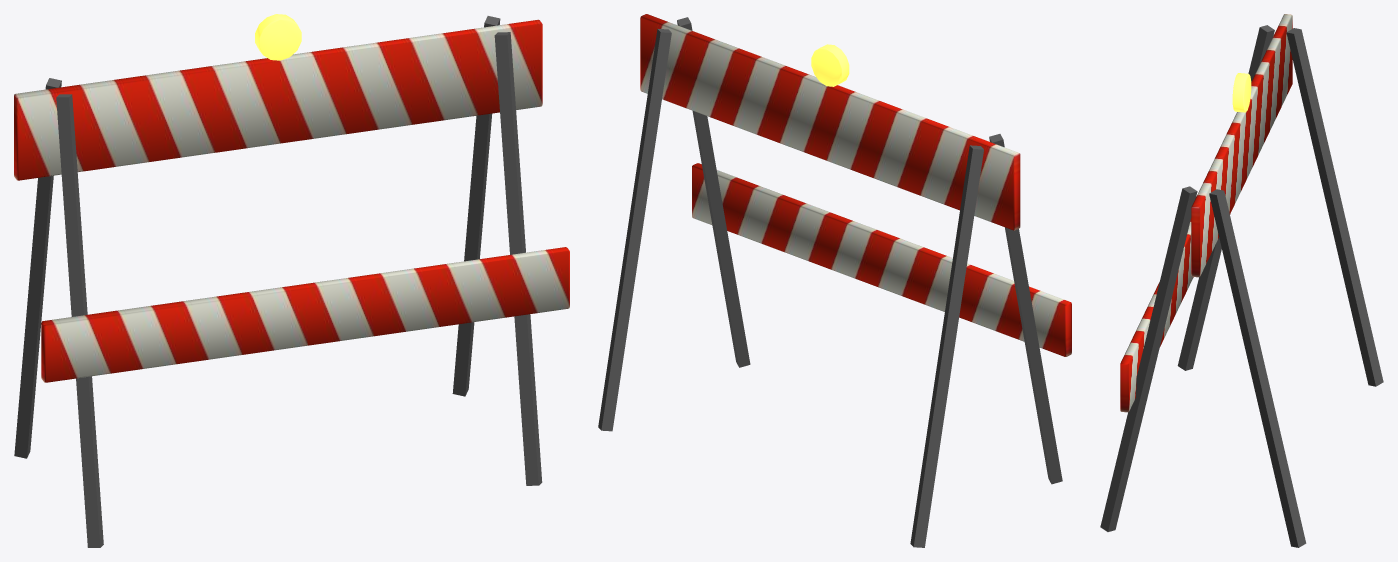
Rendered from sawhorse_2.glb.
The picture shows the model from 3 angles, left to right: view 1: azimuth 30°, elevation 25°; view 2: azimuth 150°, elevation 25°; view 3: azimuth 270°, elevation 25°; orthographic projection. The views are drawn at different scales.
Visible parts, largest first — view 1: Barricade stripes.001, Painted steel.001, Barricade lamp.001; view 2: Barricade stripes.001, Painted steel.001, Barricade lamp.001; view 3: Painted steel.001, Barricade stripes.001, Barricade lamp.001.
Boxes of the visible parts, bbox=[...] form: Barricade stripes.001: bbox=[14, 19, 569, 382]; Painted steel.001: bbox=[14, 16, 542, 547]; Barricade lamp.001: bbox=[255, 14, 301, 60]; Barricade stripes.001: bbox=[640, 14, 1071, 356]; Painted steel.001: bbox=[598, 17, 1062, 547]; Barricade lamp.001: bbox=[811, 44, 849, 86]; Painted steel.001: bbox=[1100, 25, 1383, 547]; Barricade stripes.001: bbox=[1120, 14, 1292, 412]; Barricade lamp.001: bbox=[1232, 73, 1251, 112].
Size of the model in its own units: 1.22 by 1.08 by 0.7278.
3 materials, 1 textured.
